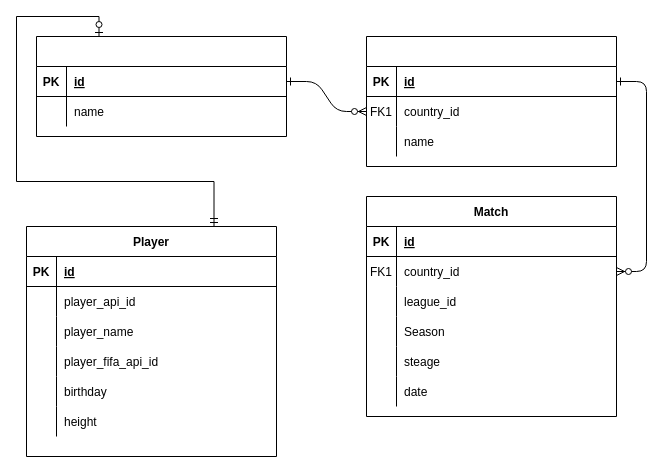
The diagram is 663 pixels wide and 473 high, and some of its shapes have lost their labels. The shapes that lost their labels are listed below. From the top down, each one's box as (x1, y1, x2, y2) in pixels, then its label:
(36, 36, 286, 136): Country
(366, 36, 616, 166): League
